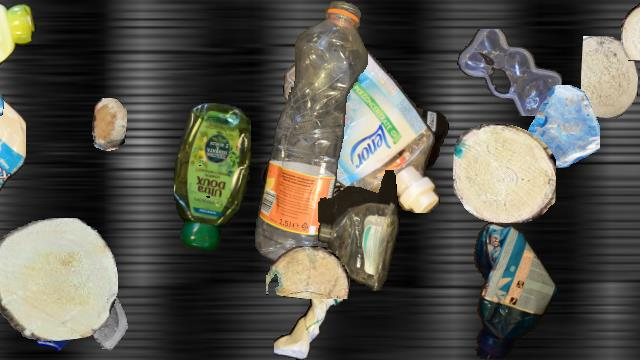glass: (517, 85, 599, 167), (65, 282, 141, 358), (25, 288, 87, 350), (0, 27, 8, 115)
plastic: (255, 1, 367, 265), (282, 40, 442, 212), (261, 111, 449, 247), (468, 221, 556, 359), (174, 103, 250, 251), (318, 170, 400, 292), (457, 29, 563, 115), (274, 275, 342, 359), (0, 86, 26, 260), (0, 1, 36, 79)
wood: (0, 218, 117, 340), (453, 124, 555, 222), (581, 36, 637, 118), (266, 246, 350, 298), (92, 98, 126, 150), (621, 2, 640, 60)
